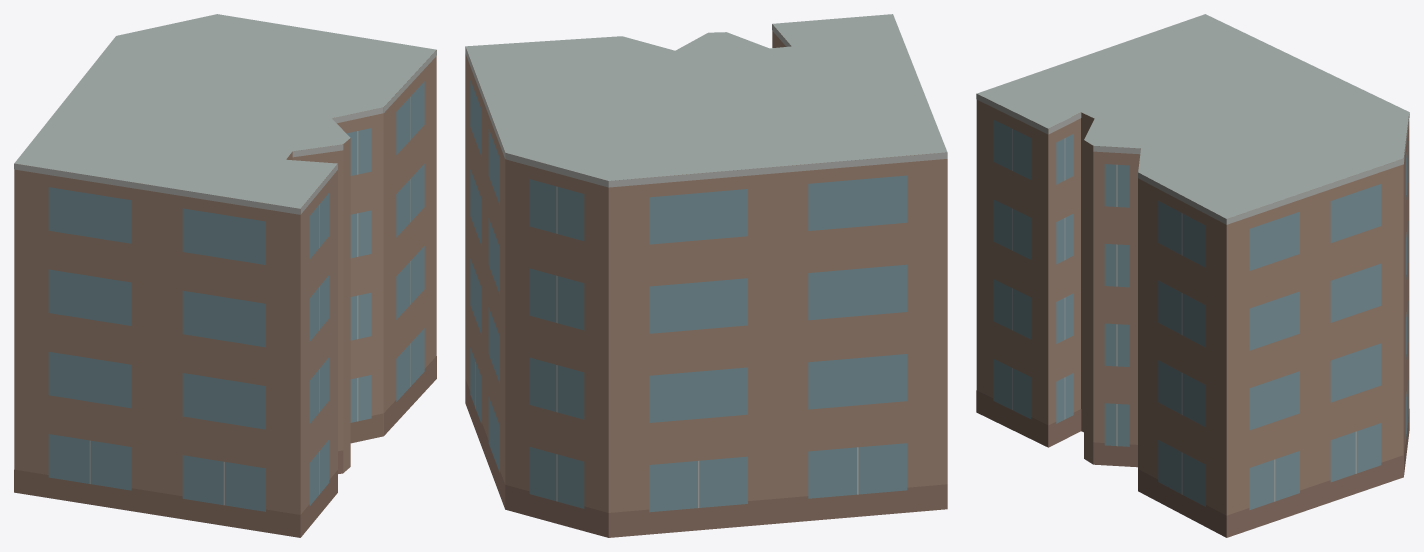
File: survey-upis-32860594.glb
3 views of the same model, side by side, from view 1: azimuth 30°, elevation 25°; view 2: azimuth 150°, elevation 25°; view 3: azimuth 270°, elevation 25° (orthographic). The views are drawn at different scales.
Parts seen in each view (by area): view 1: survey-upis-32860594.tmp; view 2: survey-upis-32860594.tmp; view 3: survey-upis-32860594.tmp.
Boxes of the visible parts, <box> form: survey-upis-32860594.tmp: <box>14,14,436,537</box>; survey-upis-32860594.tmp: <box>465,14,947,537</box>; survey-upis-32860594.tmp: <box>976,14,1409,537</box>.
Bounding box in the file's own units: 18.35 × 13.3 × 16.37.
